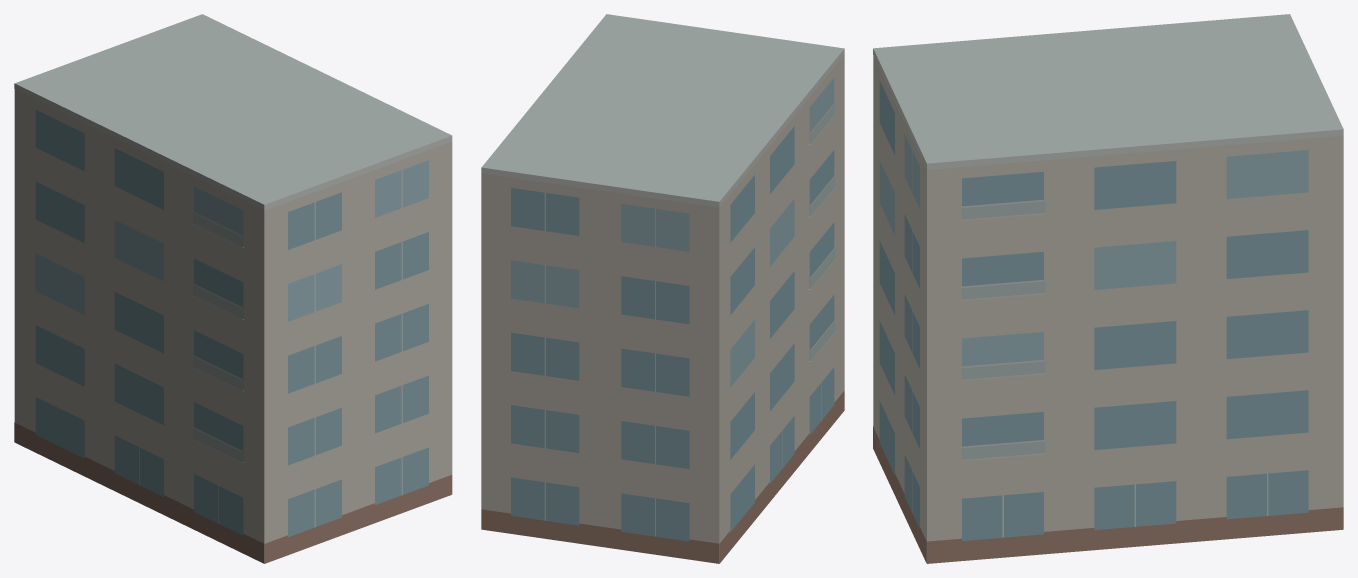
Rendered from survey-upis-32942384.glb.
3 views of the same model, side by side, from view 1: azimuth 30°, elevation 25°; view 2: azimuth 150°, elevation 25°; view 3: azimuth 270°, elevation 25° (orthographic). The views are drawn at different scales.
Visible parts, largest first — view 1: survey-upis-32942384.tmp; view 2: survey-upis-32942384.tmp; view 3: survey-upis-32942384.tmp.
Part boxes in pixels (<box>): survey-upis-32942384.tmp: <box>14,14,452,563</box>; survey-upis-32942384.tmp: <box>481,14,844,563</box>; survey-upis-32942384.tmp: <box>873,14,1343,563</box>.
Bounding box in the file's own units: 12.11 × 15.1 × 16.1.
